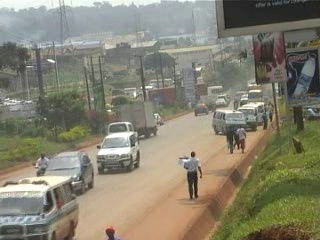Car: (42, 148, 97, 196), (92, 130, 141, 174), (108, 119, 140, 140), (192, 102, 209, 116), (154, 110, 164, 127), (216, 95, 226, 107)
Motorcycle: (29, 154, 49, 176), (230, 97, 239, 112)
